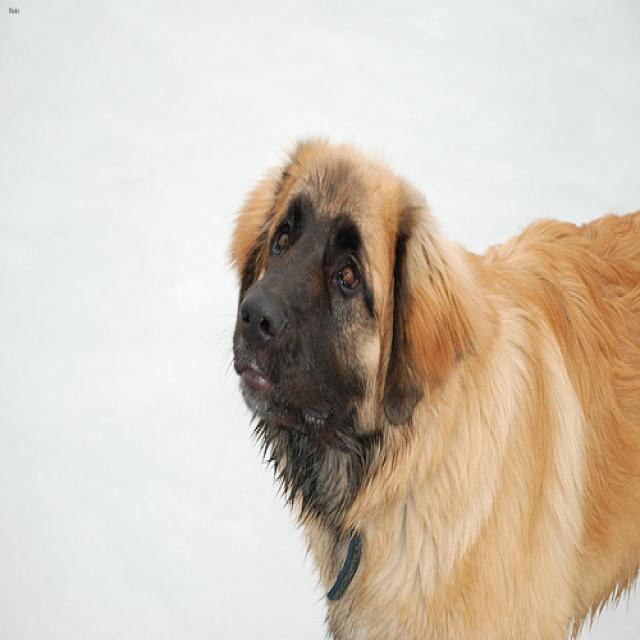dog-leonberger: (219, 121, 637, 636)
